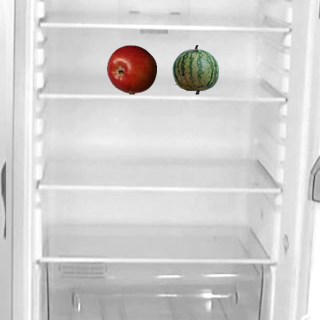Apple Braeburn: (106, 44, 156, 94)
Watermelon: (170, 44, 220, 94)
